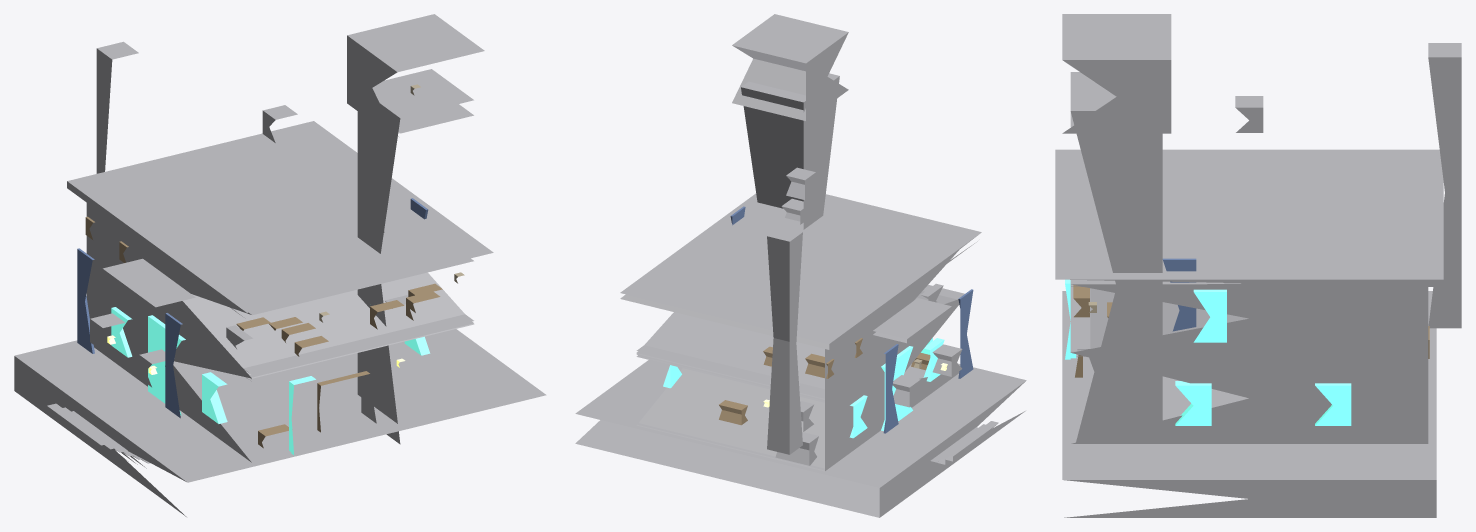
Rendered from guildhouse_3d_all.glb.
The picture shows the model from 3 angles, left to right: view 1: azimuth 30°, elevation 25°; view 2: azimuth 150°, elevation 25°; view 3: azimuth 270°, elevation 25°; orthographic projection. The views are drawn at different scales.
Visible parts, largest first — view 1: floorplan; view 2: floorplan; view 3: floorplan.
Part boxes in pixels (x1=…): floorplan: x1=14, y1=14, x2=546, y2=516; floorplan: x1=575, y1=14, x2=1026, y2=517; floorplan: x1=1055, y1=14, x2=1461, y2=517.
Size of the model in its own units: 17.2 by 16.8 by 14.55.
